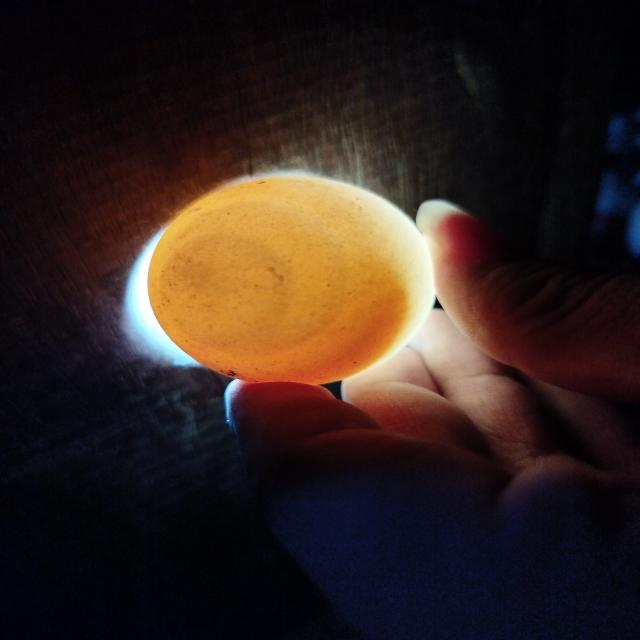Camara de Ar: (161, 234, 293, 343)
Gema Quebrada: (223, 288, 407, 384)
